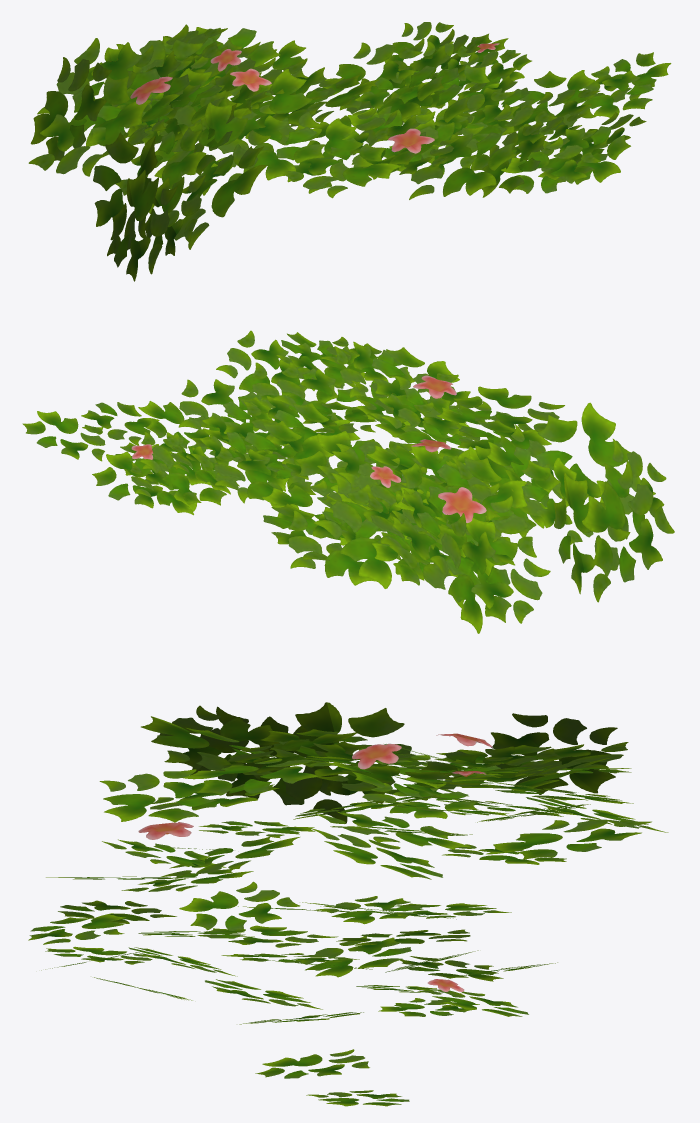
File: P_IvyCoastal03.obj
3 renders of one model, top to bottom at view 1: azimuth 30°, elevation 25°; view 2: azimuth 150°, elevation 25°; view 3: azimuth 270°, elevation 25°, orthographic. The views are drawn at different scales.
Size of the model in its own units: 5.15 by 1.25 by 3.9.
